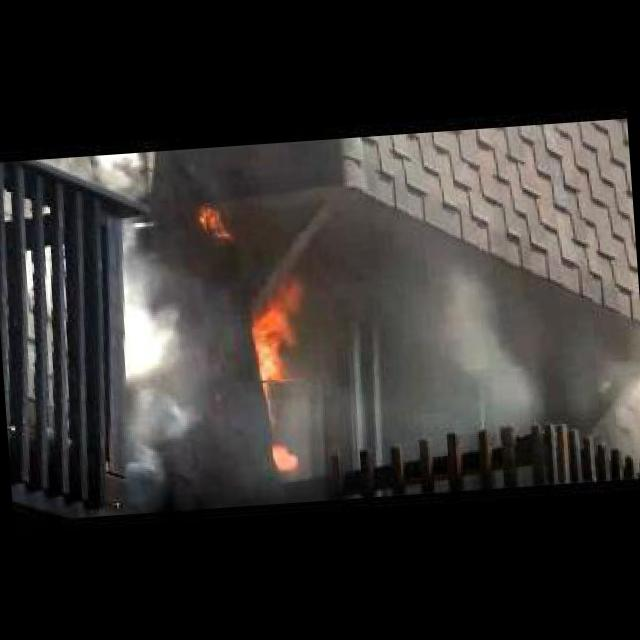fire: (217, 230, 332, 382), (188, 188, 236, 248), (258, 434, 309, 489)
